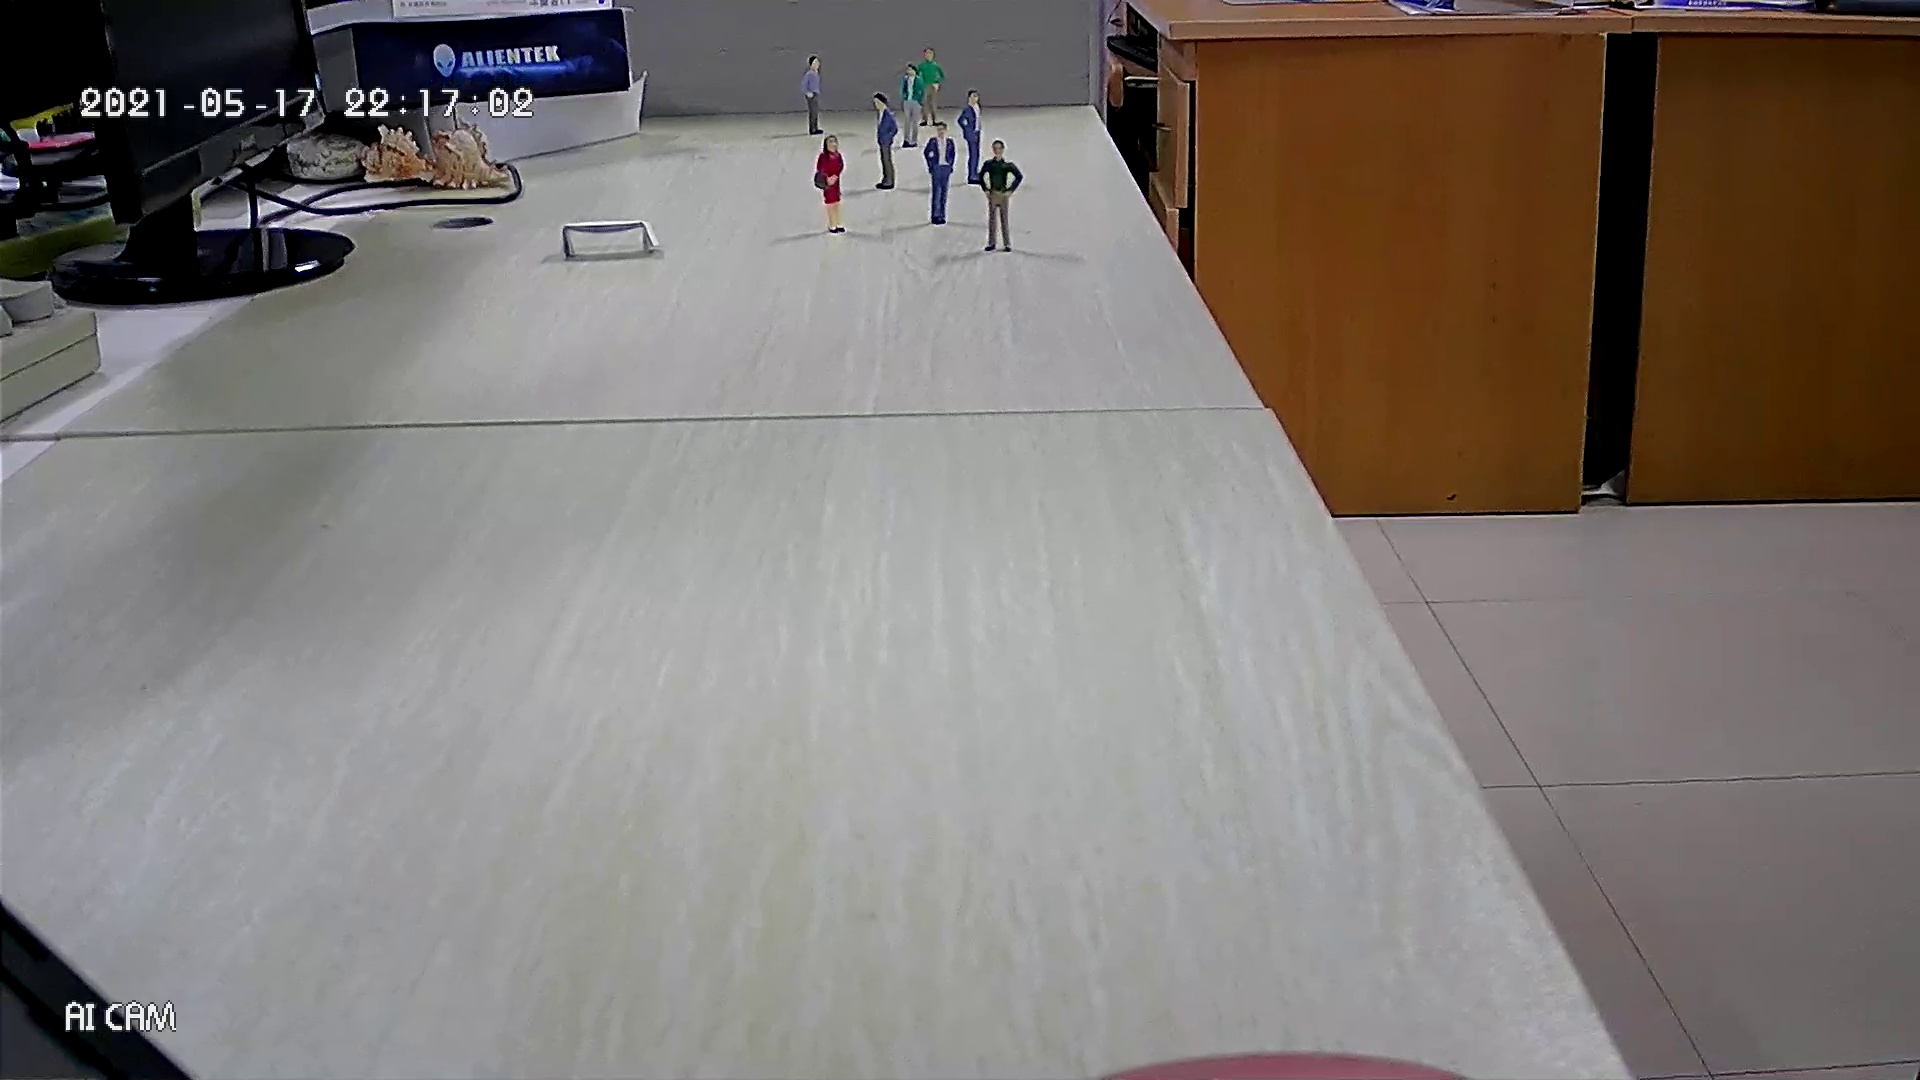person: (978, 139, 1023, 254), (922, 122, 956, 226), (813, 134, 847, 234), (871, 91, 900, 190), (957, 89, 985, 186), (919, 46, 946, 128), (799, 54, 826, 135), (902, 63, 926, 149)
